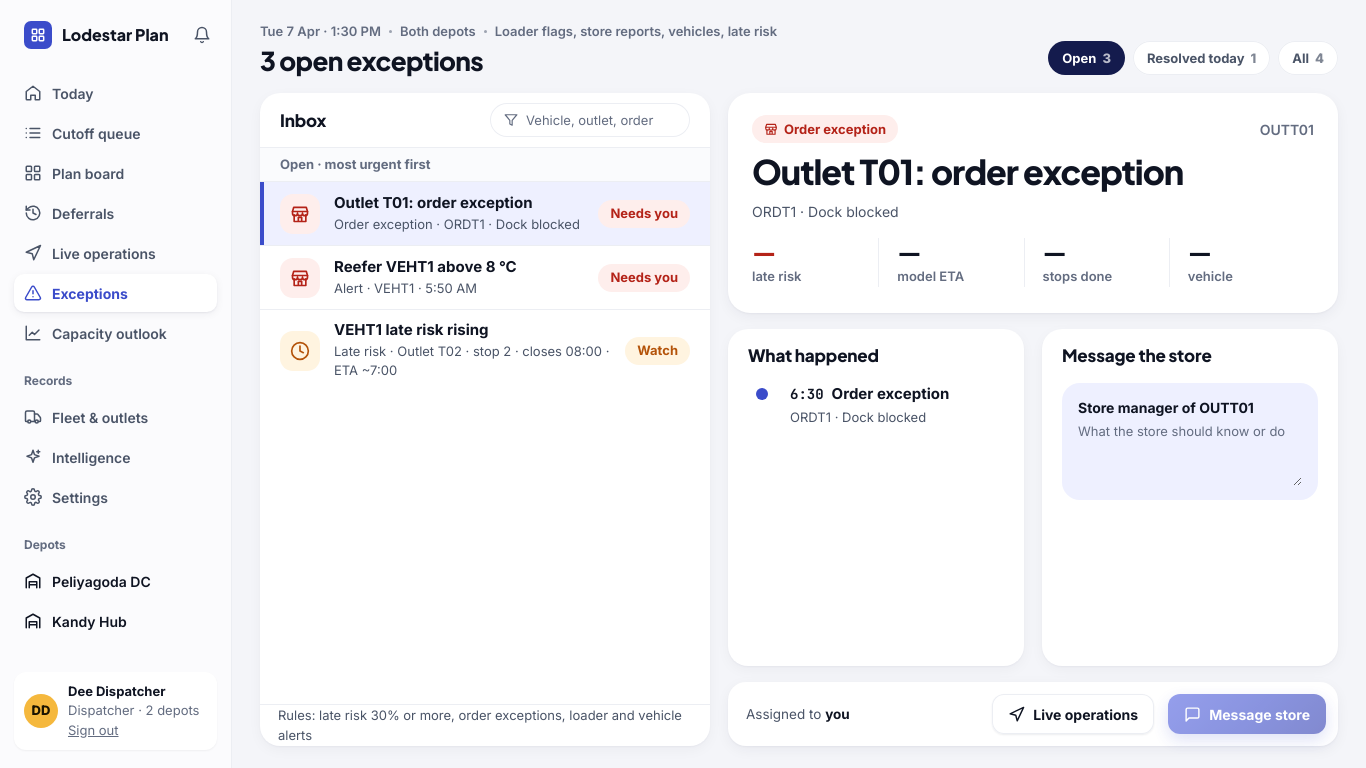
Test case: DSP-13 Exceptions inbox › says when the outlet has no store manager to message
Check: the element with test id "exception-detail" is shown, box [728,93,1338,313]
In the text box named "Message to the store": (1190, 454) [1078,422,1302,486], type "Call me"
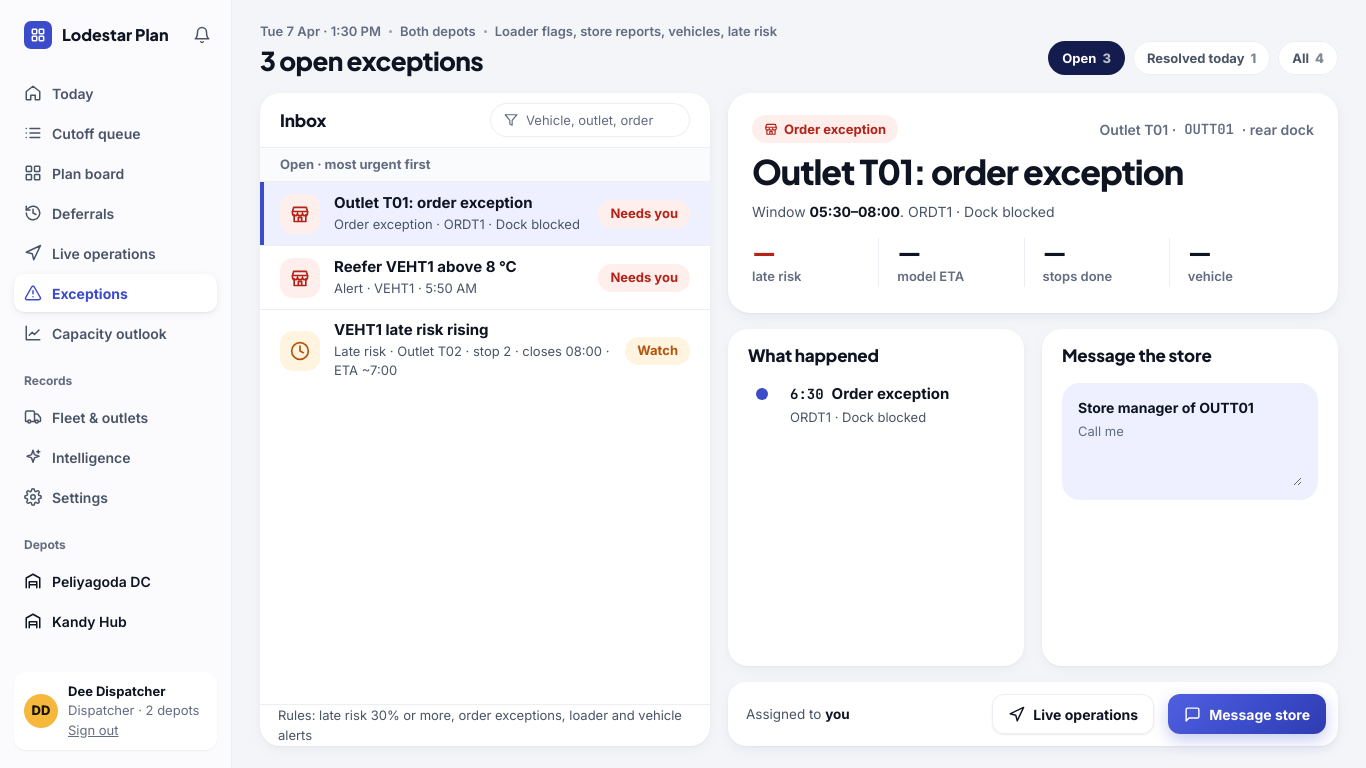
Click the button with test id "message-store": (1247, 714) [1168,694,1326,734]
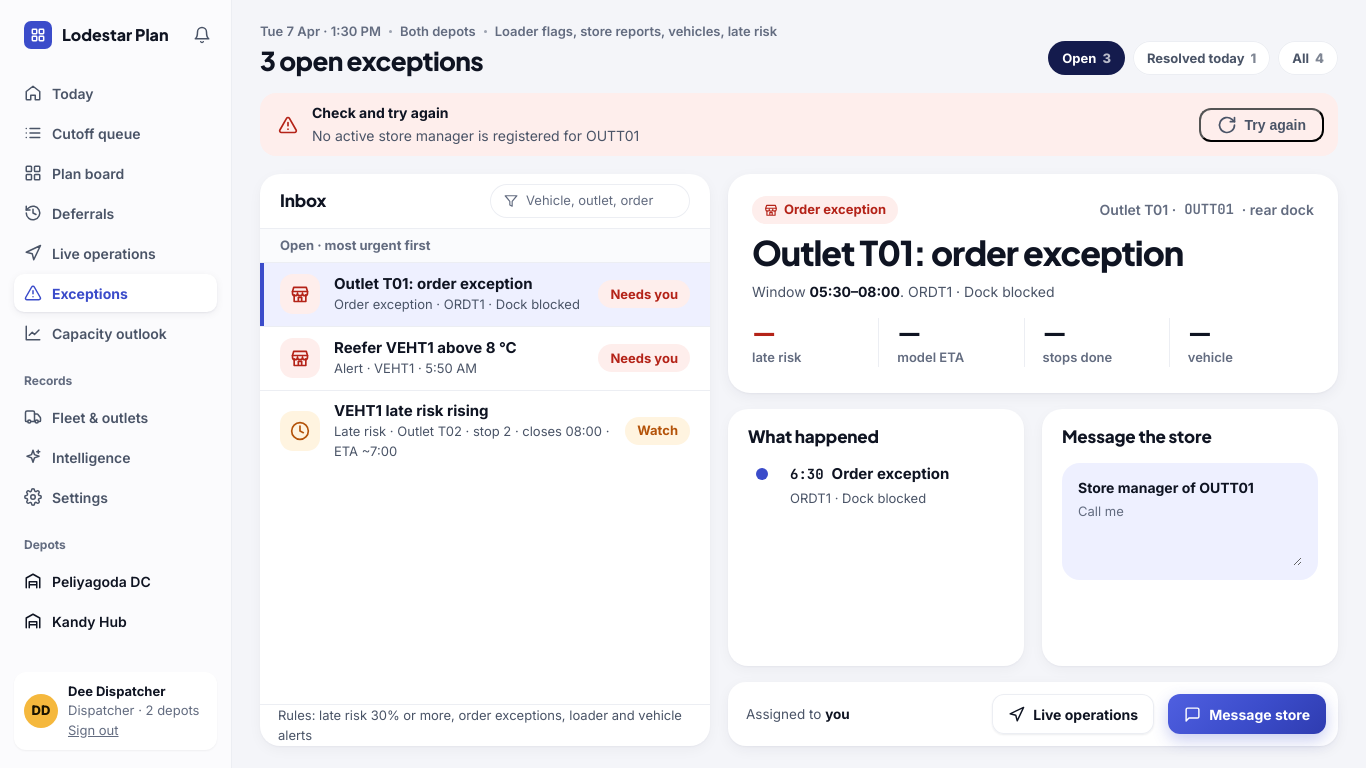
Check: the message shows "No active store manager is registered for OUTT01", box [312,127,639,144]
